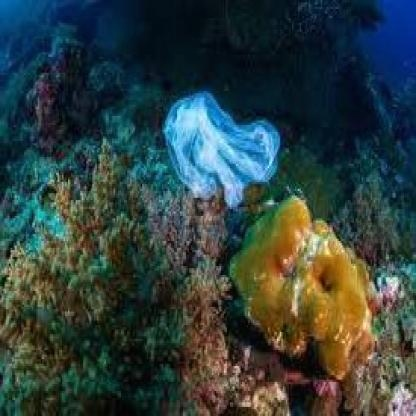pbag: (159, 86, 284, 218)
